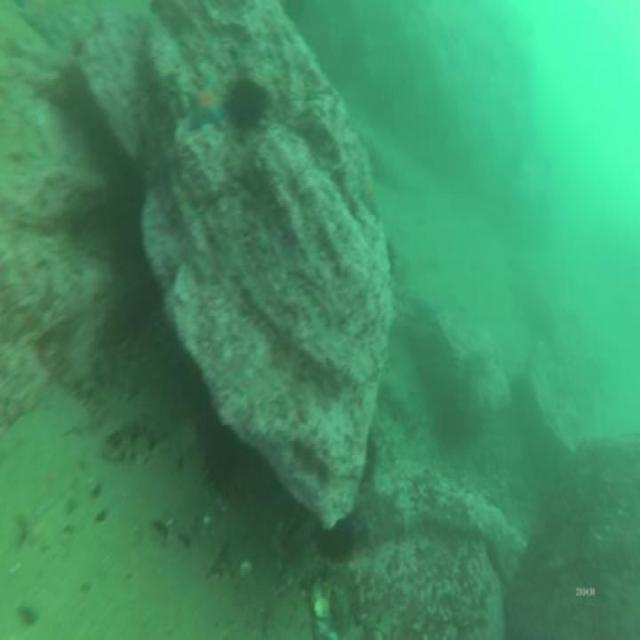echinus: (227, 79, 265, 128), (318, 517, 354, 561)
starfish: (186, 79, 225, 131)
